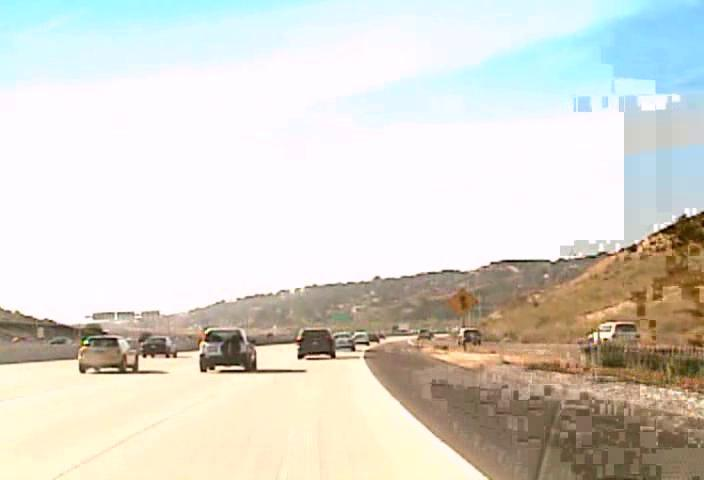merge: (447, 287, 478, 316)
